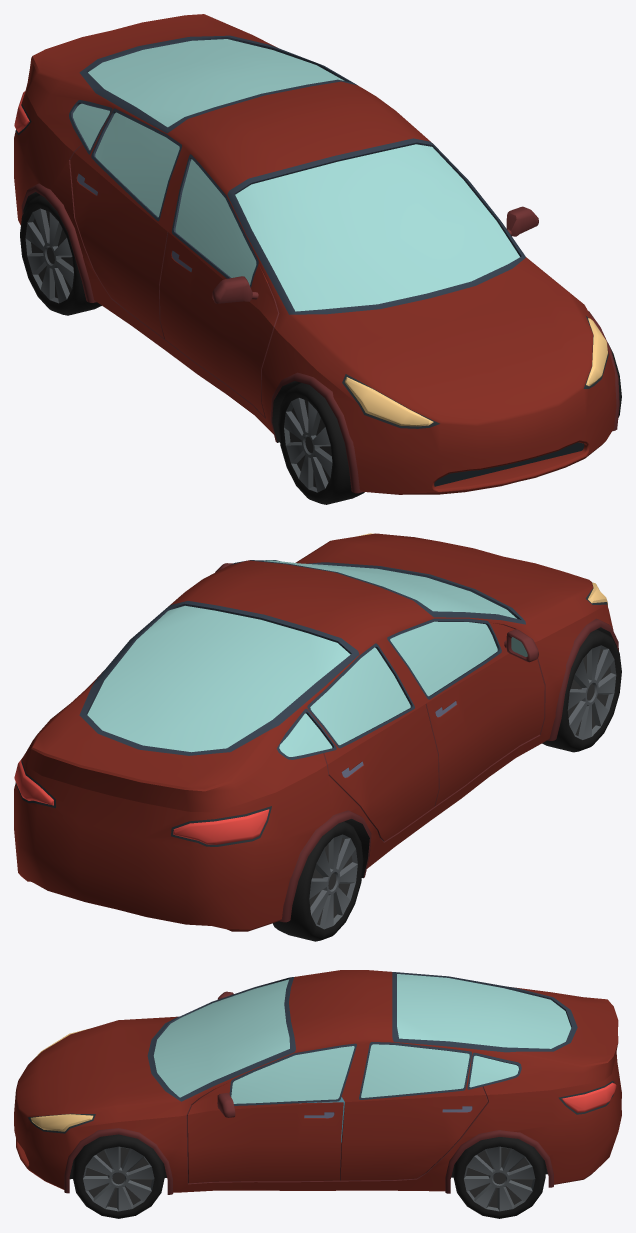
The model's file is SM_Vehicles_08_V1.fbx.
3 views of the same model, one above another, from view 1: azimuth 30°, elevation 25°; view 2: azimuth 150°, elevation 25°; view 3: azimuth 270°, elevation 25° (orthographic). The views are drawn at different scales.
Parts seen in each view (by area): view 1: SM_Vehicles_08_V1, SM_Vehicles_08_FR, SM_Vehicles_08_RR; view 2: SM_Vehicles_08_V1, SM_Vehicles_08_RR, SM_Vehicles_08_FR; view 3: SM_Vehicles_08_V1, SM_Vehicles_08_FL, SM_Vehicles_08_RL.
Part boxes in pixels (x1=…): SM_Vehicles_08_V1: x1=14, y1=14, x2=619, y2=494; SM_Vehicles_08_FR: x1=278, y1=383, x2=364, y2=504; SM_Vehicles_08_RR: x1=20, y1=195, x2=101, y2=315; SM_Vehicles_08_V1: x1=14, y1=533, x2=618, y2=931; SM_Vehicles_08_RR: x1=272, y1=821, x2=363, y2=941; SM_Vehicles_08_FR: x1=542, y1=629, x2=621, y2=752; SM_Vehicles_08_V1: x1=14, y1=970, x2=621, y2=1194; SM_Vehicles_08_FL: x1=72, y1=1134, x2=164, y2=1218; SM_Vehicles_08_RL: x1=453, y1=1137, x2=545, y2=1218.
Bounding box in the file's own units: 1.95 × 1.37 × 4.31.
